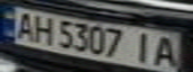0: (87, 24, 106, 56)
3: (69, 20, 90, 53)
5: (54, 18, 75, 51)
7: (103, 26, 130, 60)
A: (151, 34, 184, 69), (9, 10, 39, 40)
H: (30, 14, 57, 45)
I: (127, 30, 157, 64)
